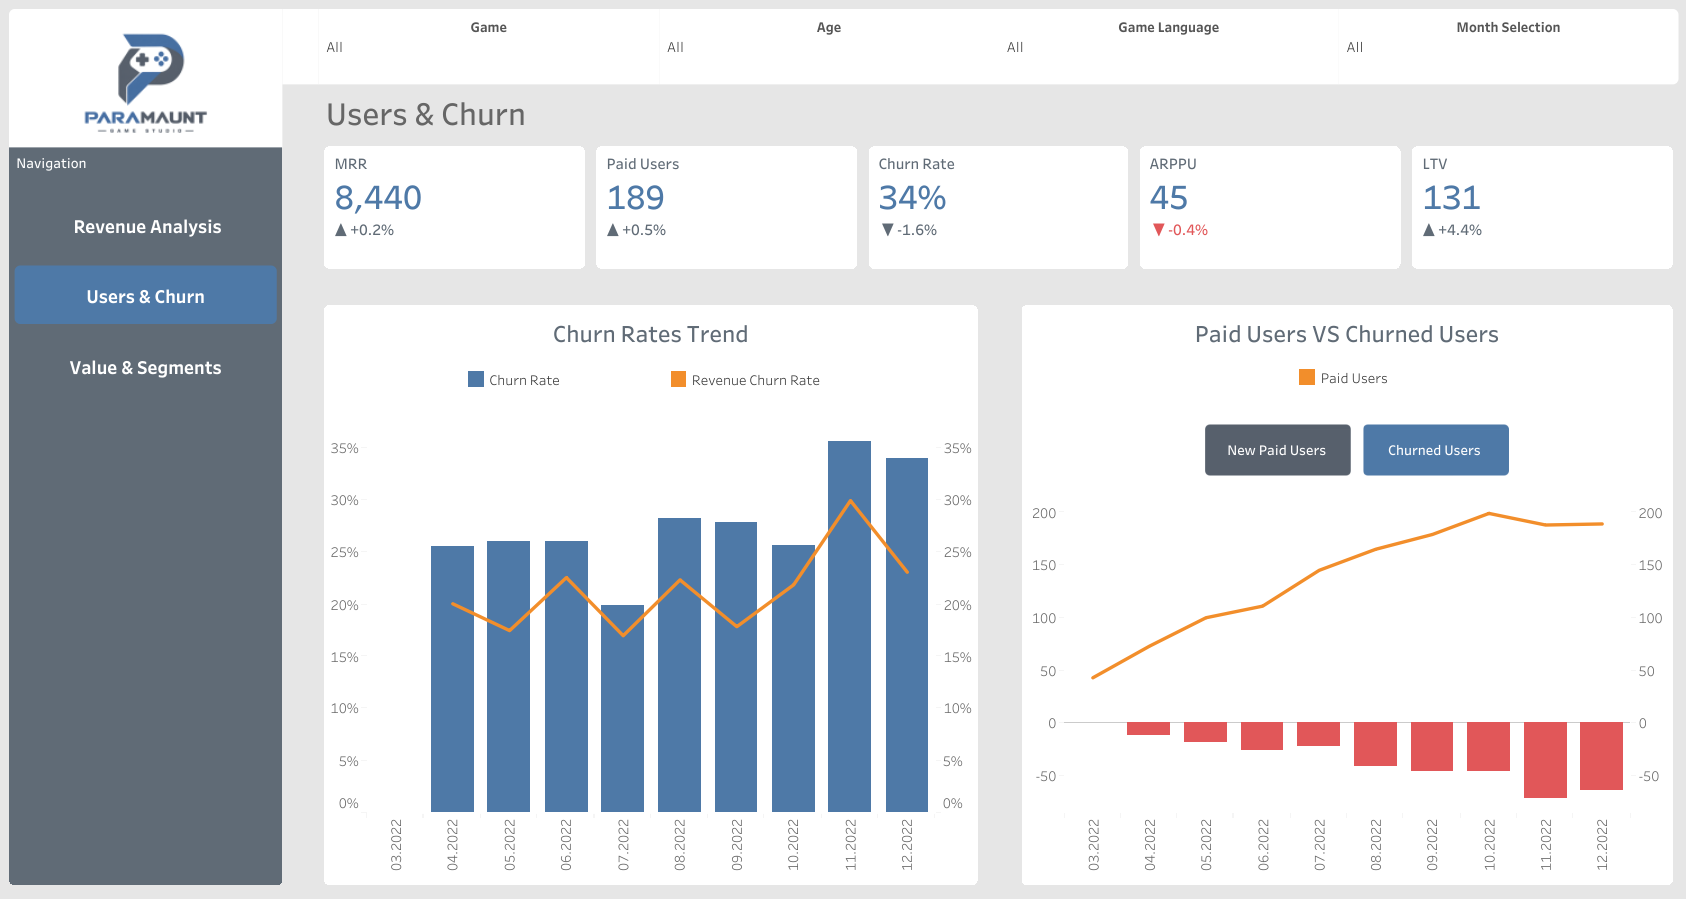

The page's visual inventory and layout, read from the dashboard file:
{"tool":"tableau","page":{"name":"User Analysis","canvas":[1500,800],"ordinal":1},"visuals":[{"type":"image","param":"C:/Users/laptopb_user/Downloads/Paramount GS Logo.png","box":[8,8,243,123]},{"type":"blank","box":[251,8,32,67]},{"type":"filter","title":"ARPPU","param":"[federated.17iy6v41999ia91auoh6q1jcxmi7].[none:game_name:nk]","box":[283,8,303,67]},{"type":"filter","title":"User Movement","param":"[federated.17iy6v41999ia91auoh6q1jcxmi7].[none:Calculation_0565194128855040:nk]","box":[586,8,302,67]},{"type":"filter","title":"ARPPU","param":"[federated.17iy6v41999ia91auoh6q1jcxmi7].[none:lang:nk]","box":[888,8,302,67]},{"type":"filter","title":"ARPPU","param":"[federated.17iy6v41999ia91auoh6q1jcxmi7].[my:payment_month:ok]","box":[1190,8,302,67]},{"type":"blank","box":[251,75,32,717]},{"type":"text","box":[283,75,1209,50]},{"type":"worksheet","title":"MRR","mark":"Automatic","cols":["payment_month","payment_month"],"box":[283,125,241.8,119]},{"type":"worksheet","title":"Paid Users","mark":"Automatic","cols":["payment_month","payment_month"],"box":[524.8,125,241.8,119]},{"type":"worksheet","title":"Churn Rate","mark":"Automatic","cols":["payment_month","payment_month"],"box":[766.6,125,241.8,119]},{"type":"worksheet","title":"ARPPU","mark":"Automatic","cols":["payment_month","payment_month"],"box":[1008.4,125,241.8,119]},{"type":"worksheet","title":"LTV","mark":"Automatic","cols":["payment_month","payment_month"],"box":[1250.2,125,241.8,119]},{"type":"text","box":[8,131,243,43]},{"type":"dashboard-object","box":[8,174,243,62]},{"type":"dashboard-object","box":[8,236,243,62]},{"type":"blank","box":[283,244,1209,22]},{"type":"worksheet","title":"Churn Rates Trend","mark":"Automatic","cols":["payment_month"],"box":[283,266,591.3,526]},{"type":"blank","box":[874.4,266,28.4,526]},{"type":"worksheet","title":"User Movement","mark":"Automatic","rows":["Calculation_0089380032151554"],"cols":["payment_month"],"box":[902.7,266,589.3,526]},{"type":"dashboard-object","box":[8,298,243,64]},{"type":"legend","title":"User Movement","param":"[federated.17iy6v41999ia91auoh6q1jcxmi7].[:Measure Names]","box":[1152,325,107,25]},{"type":"legend","title":"Churn Rates Trend","param":"[federated.17iy6v41999ia91auoh6q1jcxmi7].[:Measure Names]","box":[413,327,380,32]},{"type":"worksheet","title":"param_users_metric","mark":"Shape","cols":["Calculation_0550900151824416","Calculation_0550900151824416"],"box":[1065,354,283,92]}]}

Visuals, with their boxes in screenshot pixels (x1, y1, x2, y2), scaled from the page's 1500x800 canvas onto the 1686x899 screenshot:
image: (9, 9, 282, 147)
blank: (282, 9, 318, 84)
"ARPPU" filter: (318, 9, 659, 84)
"User Movement" filter: (659, 9, 998, 84)
"ARPPU" filter: (998, 9, 1338, 84)
"ARPPU" filter: (1338, 9, 1677, 84)
blank: (282, 84, 318, 890)
text: (318, 84, 1677, 140)
"MRR" worksheet: (318, 140, 590, 274)
"Paid Users" worksheet: (590, 140, 862, 274)
"Churn Rate" worksheet: (862, 140, 1133, 274)
"ARPPU" worksheet: (1133, 140, 1405, 274)
"LTV" worksheet: (1405, 140, 1677, 274)
text: (9, 147, 282, 196)
dashboard-object: (9, 196, 282, 265)
dashboard-object: (9, 265, 282, 335)
blank: (318, 274, 1677, 299)
"Churn Rates Trend" worksheet: (318, 299, 983, 890)
blank: (983, 299, 1015, 890)
"User Movement" worksheet: (1015, 299, 1677, 890)
dashboard-object: (9, 335, 282, 407)
"User Movement" legend: (1295, 365, 1415, 393)
"Churn Rates Trend" legend: (464, 367, 891, 403)
"param_users_metric" worksheet (Shape marks): (1197, 398, 1515, 501)
